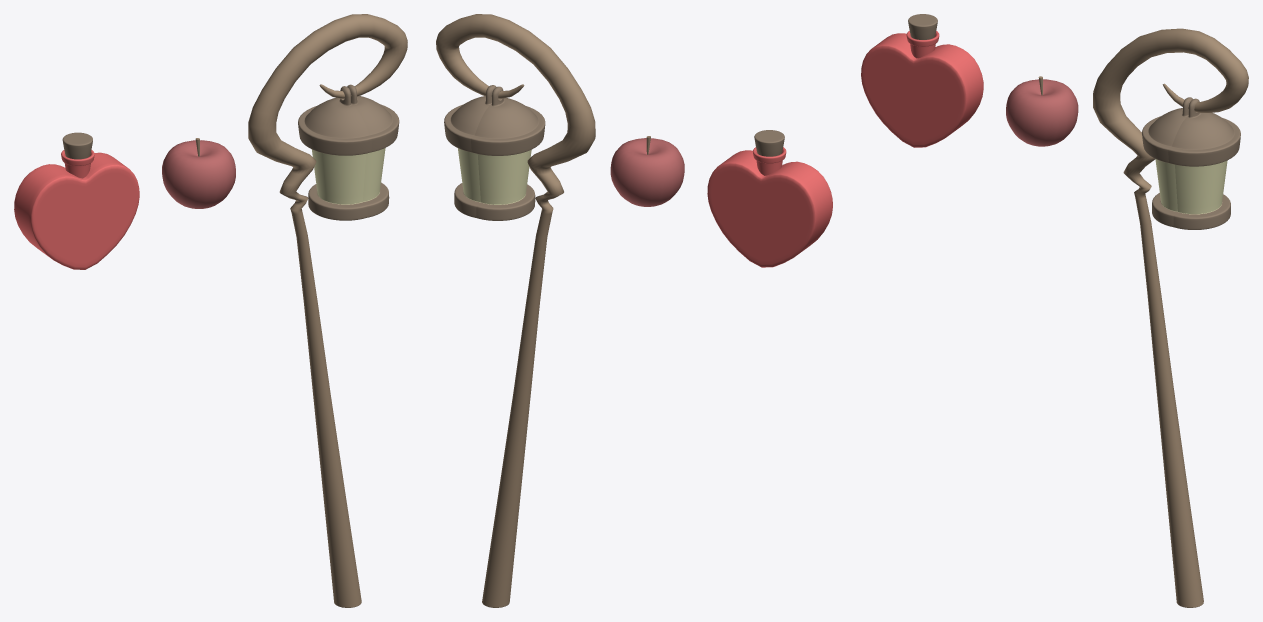
The model's file is otherOB.fbx.
3 views of the same model, side by side, from view 1: azimuth 30°, elevation 25°; view 2: azimuth 150°, elevation 25°; view 3: azimuth 330°, elevation 25° (orthographic). The views are drawn at different scales.
Parts seen in each view (by area): view 1: tourchh1Shape, pCylinder2, polySurface1, pSphere1; view 2: tourchh1Shape, pCylinder2, polySurface1, pSphere1; view 3: tourchh1Shape, pCylinder2, pSphere1, polySurface1.
Boxes of the visible parts, x1,y1,x2,y2 form: tourchh1Shape: (248, 14, 407, 607); pCylinder2: (14, 132, 139, 269); polySurface1: (298, 86, 372, 220); pSphere1: (162, 138, 235, 208); tourchh1Shape: (436, 14, 595, 607); pCylinder2: (707, 130, 832, 267); polySurface1: (462, 86, 545, 220); pSphere1: (610, 136, 684, 206); tourchh1Shape: (1093, 28, 1248, 607); pCylinder2: (861, 14, 983, 147); pSphere1: (1006, 76, 1078, 146); polySurface1: (1142, 97, 1192, 227).
Size of the model in its own units: 10.09 by 14.65 by 2.16.
